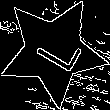L_NW: (24, 25, 82, 77)
